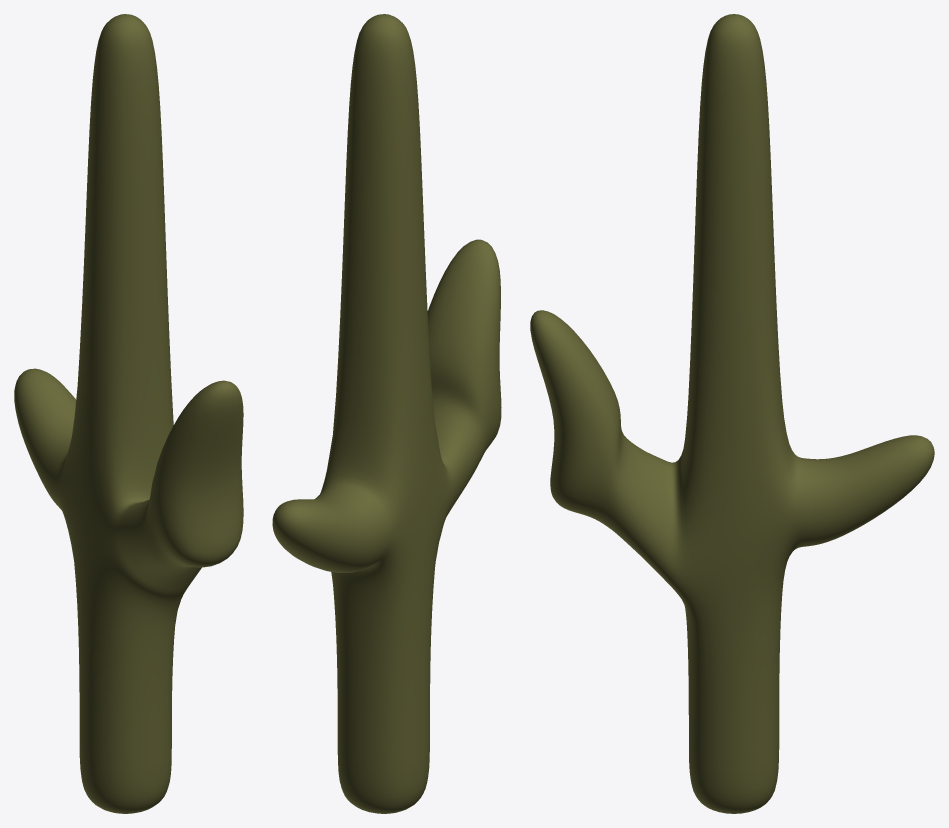
Rendered from cactus_3.glb.
The picture shows the model from 3 angles, left to right: view 1: azimuth 30°, elevation 25°; view 2: azimuth 150°, elevation 25°; view 3: azimuth 270°, elevation 25°; orthographic projection.
Visible parts, largest first — view 1: Cube.002; view 2: Cube.002; view 3: Cube.002.
Part boxes in pixels (box(x1,y1,x2,y2)): Cube.002: box(14, 14, 243, 813); Cube.002: box(272, 14, 501, 813); Cube.002: box(530, 14, 934, 813).
Bounding box in the file's own units: 0.8973 × 8.12 × 3.76.
